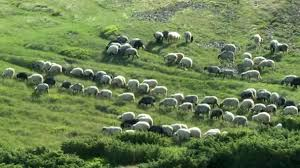sheep: (240, 69, 262, 83), (100, 125, 122, 137), (221, 96, 239, 110), (251, 112, 271, 124), (201, 96, 219, 109), (173, 128, 190, 141), (160, 97, 177, 110), (116, 111, 134, 123), (125, 46, 139, 61), (239, 99, 254, 113), (259, 58, 275, 71), (133, 120, 150, 132), (150, 85, 167, 97), (203, 66, 220, 78), (118, 92, 136, 103), (218, 50, 233, 63), (27, 74, 43, 86), (34, 83, 50, 95), (178, 101, 192, 114), (167, 30, 180, 44), (180, 56, 192, 70), (1, 68, 14, 80), (163, 53, 177, 64), (283, 106, 297, 117), (183, 31, 194, 45), (83, 86, 98, 96), (106, 44, 118, 56), (112, 76, 123, 89), (191, 127, 202, 139), (126, 79, 138, 90), (223, 110, 234, 122), (70, 67, 83, 77), (48, 65, 61, 75), (270, 91, 278, 105)
